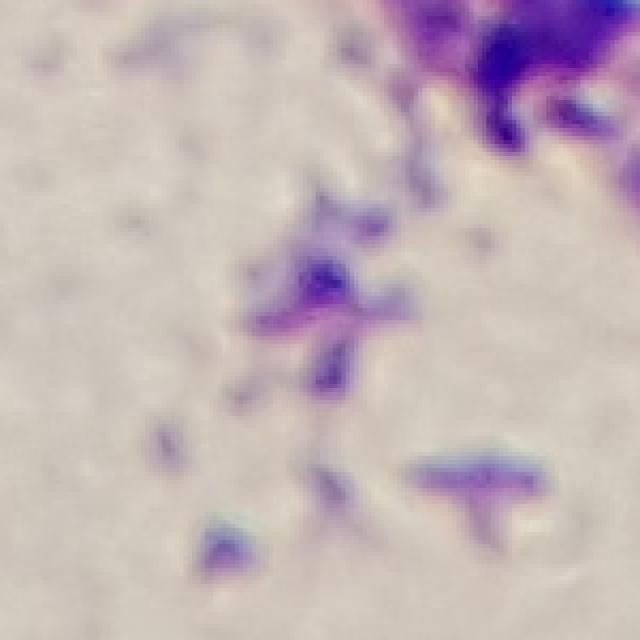non-sperm: (227, 132, 434, 400)
